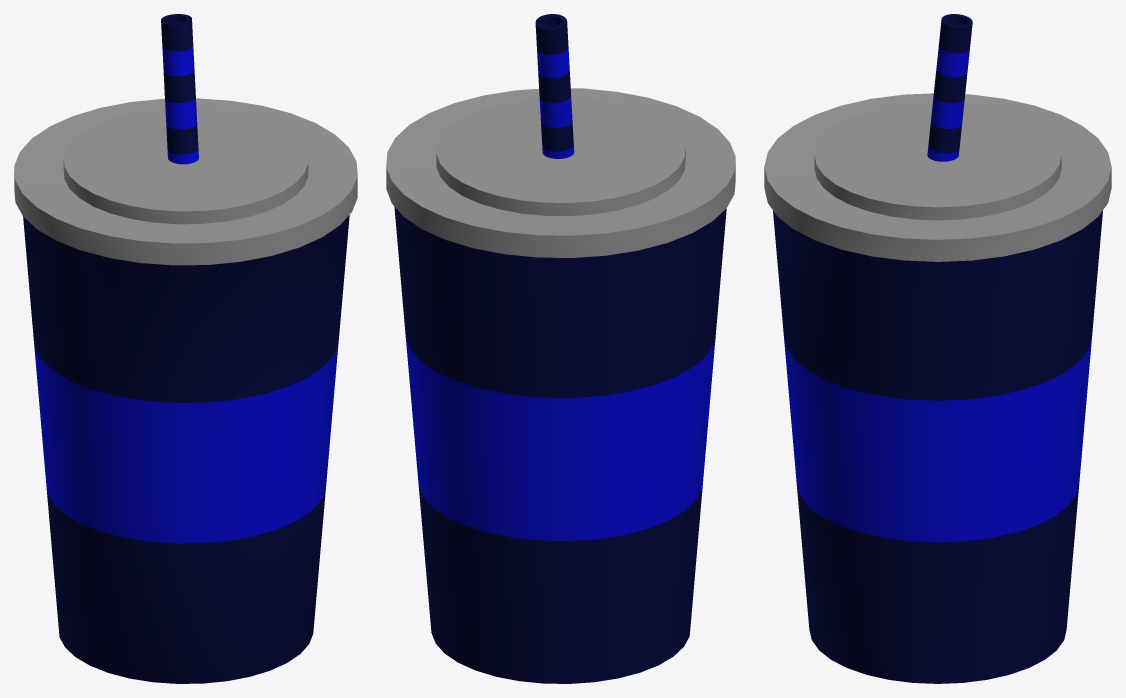
The model's file is Comida_VR12.fbx.
3 views of the same model, side by side, from view 1: azimuth 30°, elevation 25°; view 2: azimuth 150°, elevation 25°; view 3: azimuth 270°, elevation 25° (orthographic).
Parts seen in each view (by area): view 1: Astro Pop; view 2: Astro Pop; view 3: Astro Pop.
Part boxes in pixels (x1,y1,x2,y2): Astro Pop: (14,14,357,683); Astro Pop: (386,14,735,683); Astro Pop: (764,14,1111,683).
Size of the model in its own units: 137 by 265 by 137.
